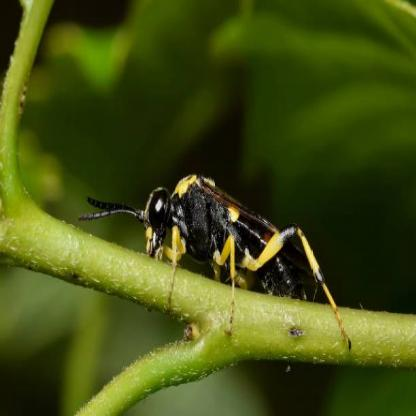sawfly: (78, 173, 356, 354)
